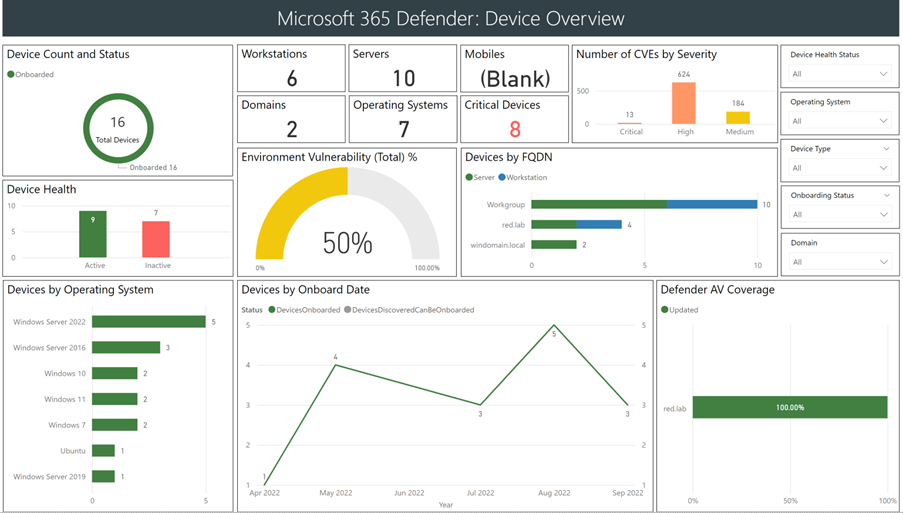

What the dashboard file says about the page in this screenshot:
{"tool":"powerbi","page":{"name":"Device Summary","canvas":[1280,720],"ordinal":1},"visuals":[{"type":"textbox","box":[11.9,0,1258.6,51],"z":0},{"type":"columnChart","title":"Device Health","fields":{"Category":["Devices.healthStatus"],"Y":["aaMeasures.DevicesOnboarded"]},"box":[11.8,252.6,323.9,136.1],"z":1000},{"type":"lineChart","title":"Devices by Onboard Date","fields":{"Category":["Devices.FirstSeenTimestamp.Variation.Date Hierarchy.Year","Devices.FirstSeenTimestamp.Variation.Date Hierarchy.Month","Devices.FirstSeenTimestamp.Variation.Date Hierarchy.Day"],"Y":["aaMeasures.OnboardedDevices"],"Y2":["aaMeasures.ActiveCanBeOnboarded"]},"box":[340.9,393.9,583.7,325.9],"z":2000},{"type":"columnChart","title":"Number of CVEs by Severity","fields":{"Category":["DeviceVulnerabilities.Vulnerabilityseveritylevel"],"Y":["Count(DeviceVulnerabilities.Cveid)"]},"box":[810.8,62.8,289.2,138.1],"z":3000},{"type":"card","title":"Workstations","fields":{"Values":["aaMeasures.DevicesOnboarded"]},"box":[341.1,62.6,151.8,66.9],"z":4000},{"type":"card","title":"Servers","fields":{"Values":["aaMeasures.DevicesOnboarded"]},"box":[497.6,62.6,151.8,66.9],"z":5000},{"type":"card","title":"Domains","fields":{"Values":["Count(Devices.DomainName)"]},"box":[341.1,134.2,151.8,66.9],"z":6000},{"type":"card","title":"Operating Systems","fields":{"Values":["Count(OSVersions.OSPlatform)"]},"box":[498.3,134.2,151.8,66.9],"z":7000},{"type":"barChart","title":"Devices by FQDN","fields":{"Category":["Devices.DomainName"],"Series":["OSVersions.DeviceType"],"Y":["aaMeasures.DevicesOnboarded"]},"box":[655.1,207.4,445,181.3],"z":8000},{"type":"card","title":"Mobiles","fields":{"Values":["aaMeasures.DevicesOnboarded"]},"box":[654.7,62.8,151.8,66.7],"z":9000},{"type":"card","title":"Critical Devices","fields":{"Values":["aaMeasures.DevicesOnboarded"]},"box":[654.7,134.2,151.8,66.9],"z":10000},{"type":"barChart","title":"Devices by Operating System","fields":{"Category":["OSVersions.OsName"],"Y":["aaMeasures.DevicesOnboarded"]},"box":[12.4,393.9,323.3,325.9],"z":11000},{"type":"hundredPercentStackedBarChart","title":"Defender AV Coverage","fields":{"Category":["Devices.DomainName"],"Series":["Devices.defenderAvStatus"],"Y":["aaMeasures.DevicesOnboarded"]},"box":[929.2,393.9,341.6,325.9],"z":12000},{"type":"group","id":"g1","title":"Group 1","box":[11.5,62.7,323.1,184.6],"z":13000},{"type":"gauge","title":"Environment Vulnerability (Total) %","fields":{"MaxValue":["aaMeasures.DevicesOnboarded"],"Y":["aaMeasures.VulnerableDevices%"]},"box":[340.9,207.4,308.2,181.3],"z":14000},{"type":"slicer","fields":{"Values":["Devices.DomainName"]},"box":[1104.3,327.7,166.8,60.9],"z":15000},{"type":"slicer","fields":{"Values":["Devices.onboardingStatus"]},"box":[1104.3,260.9,166.8,60.9],"z":16000},{"type":"donutChart","title":"Device Count and Status","fields":{"Category":["Devices.onboardingStatus"],"Y":["aaMeasures.TotalDevices"]},"box":[11.5,62.7,323.1,184.6],"z":17000,"group":"g1"},{"type":"slicer","fields":{"Values":["OSVersions.DeviceType"]},"box":[1103.7,195.3,166.8,60.9],"z":17000},{"type":"slicer","fields":{"Values":["OSVersions.OsName"]},"box":[1103.7,129.1,166.8,60.9],"z":18000},{"type":"card","title":"Total Devices","fields":{"Values":["aaMeasures.ApplicableDeviceCount"]},"box":[103.1,136.3,139.9,85.1],"z":18000,"group":"g1"},{"type":"slicer","fields":{"Values":["Devices.healthStatus"]},"box":[1103.7,62.9,166.8,60.9],"z":19000}]}

Visuals, with their boxes in screenshot pixels (x1, y1, x2, y2), scaled from the page's 1280x720 canvas onto the 903x513 screenshot:
textbox: l=8, t=0, r=896, b=36
"Device Health" columnChart: l=8, t=180, r=237, b=277
"Devices by Onboard Date" lineChart: l=240, t=281, r=652, b=512
"Number of CVEs by Severity" columnChart: l=572, t=45, r=776, b=143
"Workstations" card: l=241, t=45, r=348, b=92
"Servers" card: l=351, t=45, r=458, b=92
"Domains" card: l=241, t=96, r=348, b=143
"Operating Systems" card: l=352, t=96, r=459, b=143
"Devices by FQDN" barChart: l=462, t=148, r=776, b=277
"Mobiles" card: l=462, t=45, r=569, b=92
"Critical Devices" card: l=462, t=96, r=569, b=143
"Devices by Operating System" barChart: l=9, t=281, r=237, b=512
"Defender AV Coverage" hundredPercentStackedBarChart: l=656, t=281, r=897, b=512
"Group 1" group: l=8, t=45, r=236, b=176
"Environment Vulnerability (Total) %" gauge: l=240, t=148, r=458, b=277
slicer - Devices.DomainName: l=779, t=233, r=897, b=277
slicer - Devices.onboardingStatus: l=779, t=186, r=897, b=229
"Device Count and Status" donutChart: l=8, t=45, r=236, b=176
slicer - OSVersions.DeviceType: l=779, t=139, r=896, b=183
slicer - OSVersions.OsName: l=779, t=92, r=896, b=135
"Total Devices" card: l=73, t=97, r=171, b=158
slicer - Devices.healthStatus: l=779, t=45, r=896, b=88
